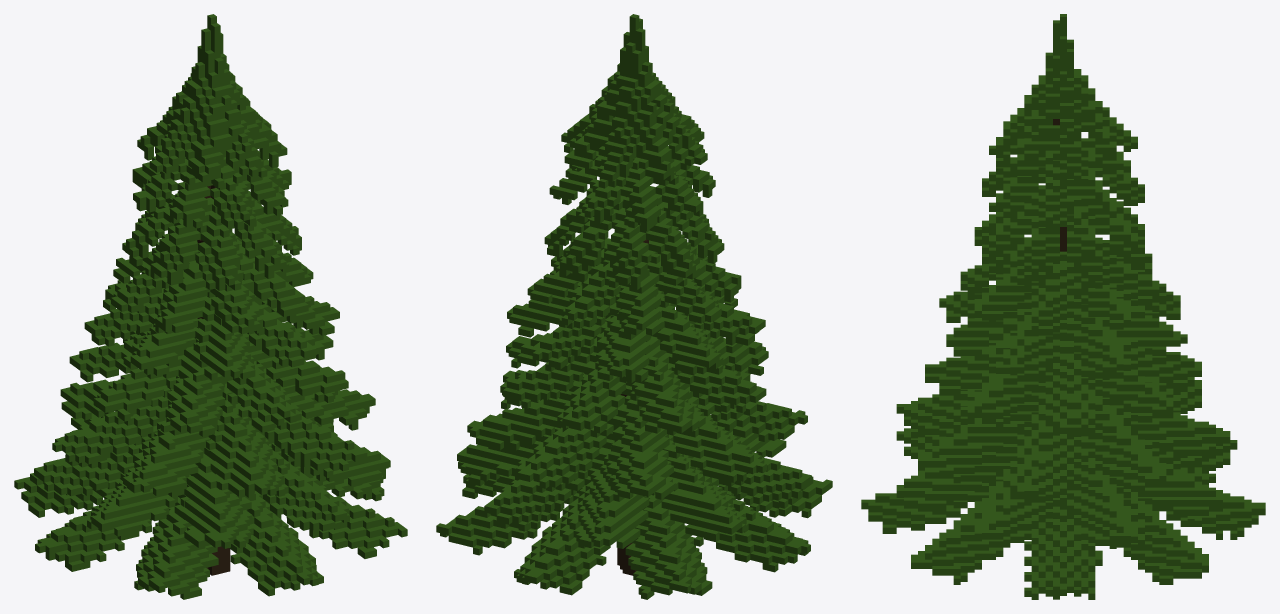
The model's file is fir tree.fbx.
3 renders of one model, left to right at view 1: azimuth 30°, elevation 25°; view 2: azimuth 150°, elevation 25°; view 3: azimuth 270°, elevation 25°, orthographic.
Visible parts, largest first — view 1: Tree1; view 2: Tree1; view 3: Tree1.
Part boxes in pixels (box(x1,y1,x2,y2)): Tree1: box(14, 14, 407, 599); Tree1: box(436, 14, 832, 599); Tree1: box(861, 14, 1265, 599).
Bounding box in the file's own units: 57 × 86 × 57.
1 material, 1 textured.
